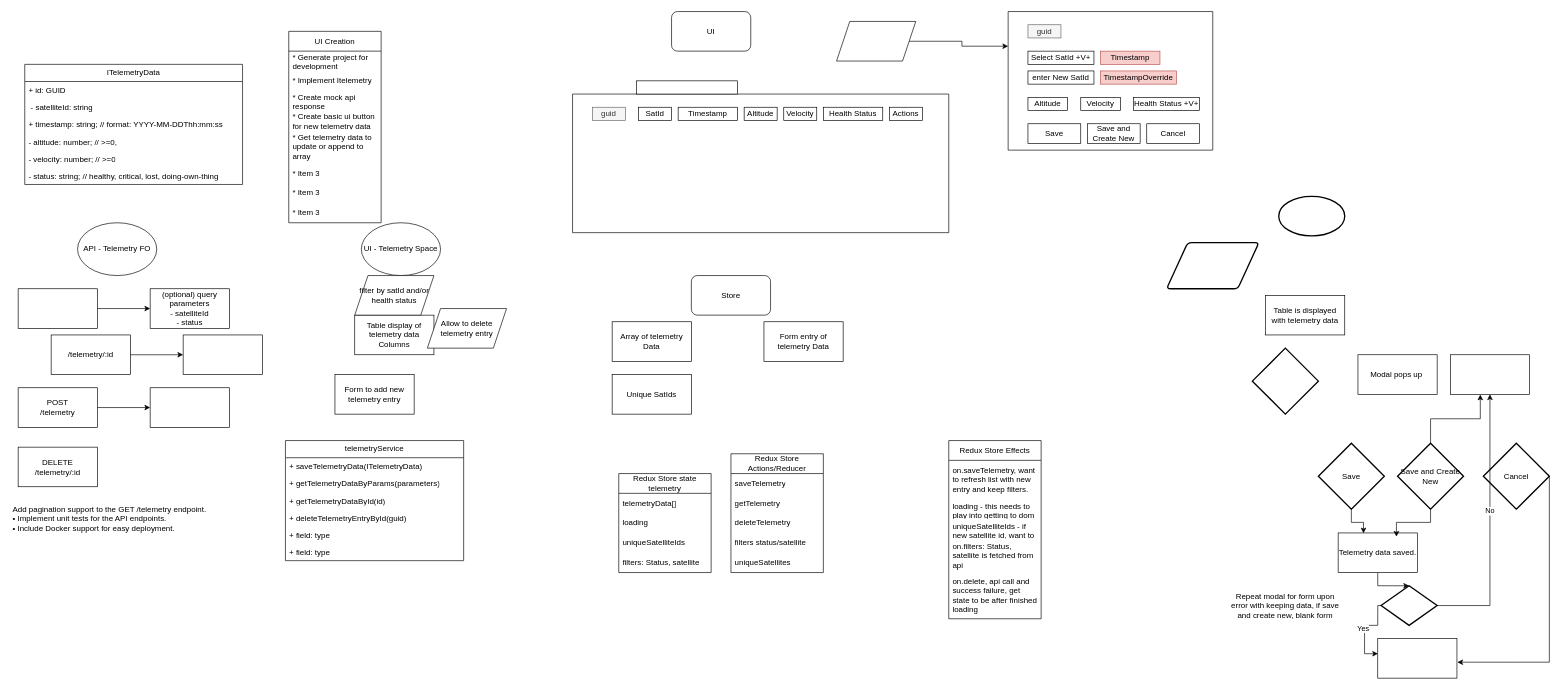
Image size: 1566x690. Some labels were removed from this diagram. Here are the shapes that lost their labels. From the top down, the centre of each, then its label:
At point (876, 41): "Entry New Telemetry Data".
At point (687, 87): "Filter search bar".
At point (1311, 215): "User opens application".
At point (1212, 265): "Telemetry data is retrieved from API".
At point (57, 308): "GET /telemetry".
At point (222, 354): "Return telemetry by entry Id.".
At point (1490, 374): "Telemetry form displays".
At point (1285, 380): "Clicks Entry new Telemetry Data".
At point (189, 407): "Body should include telemetry info and validation".
At point (1408, 605): "Is save successful?".
At point (1417, 658): "close modal".
